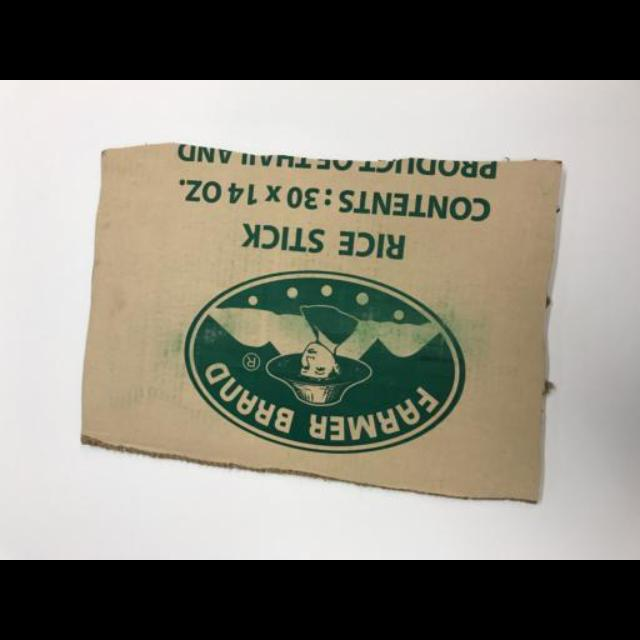papelão: (84, 140, 562, 504)
